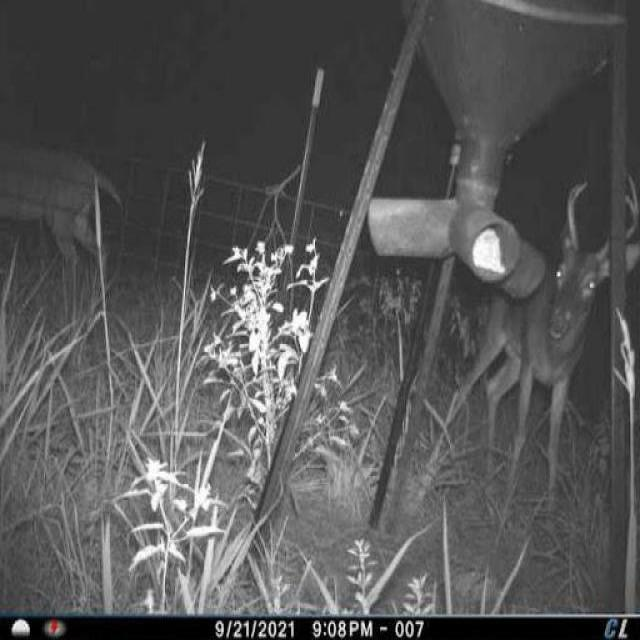deer: (431, 169, 639, 503), (0, 116, 115, 325)
